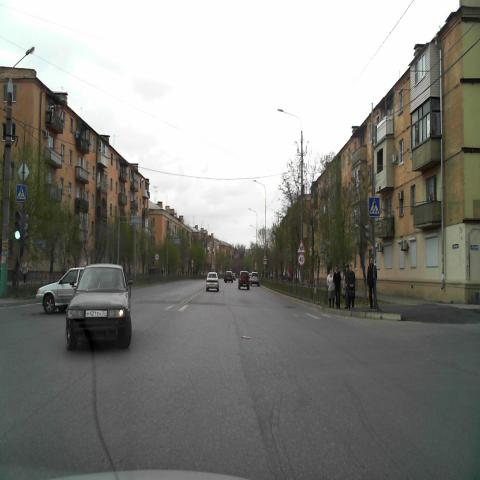1_23: (296, 240, 306, 252)
